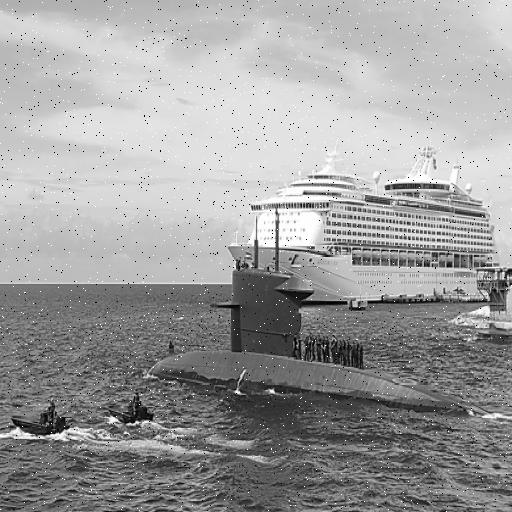submarine: (148, 215, 498, 416)
